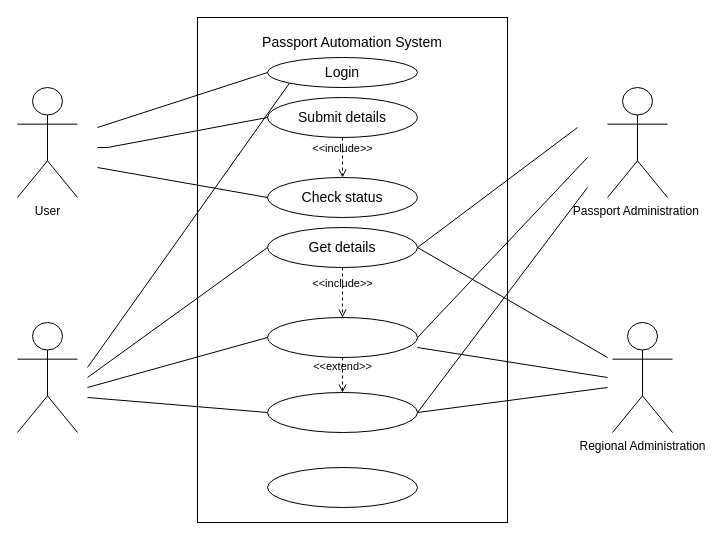
The diagram is 723 pixels wide and 540 high, and some of its shapes have lost their labels. The centre of each missing label's shape, as x and y in pixels:
"Issue passport" goes at pixel 342 487.
"Police" goes at pixel 47 377.
"Stop Verfication" goes at pixel 342 412.
"Verfication" goes at pixel 342 337.
